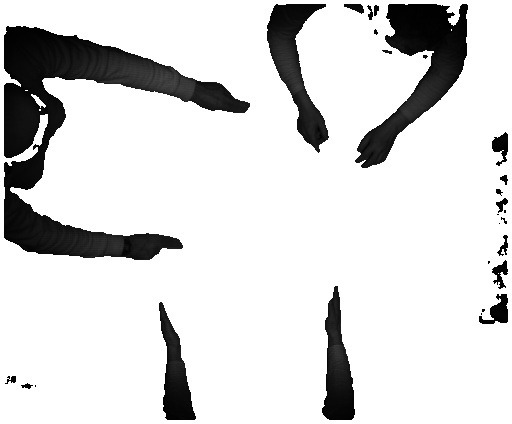hand: (297, 107, 353, 162), (352, 122, 403, 167), (197, 80, 255, 119), (133, 232, 183, 263)
spine: (153, 296, 183, 356), (320, 280, 343, 342)
